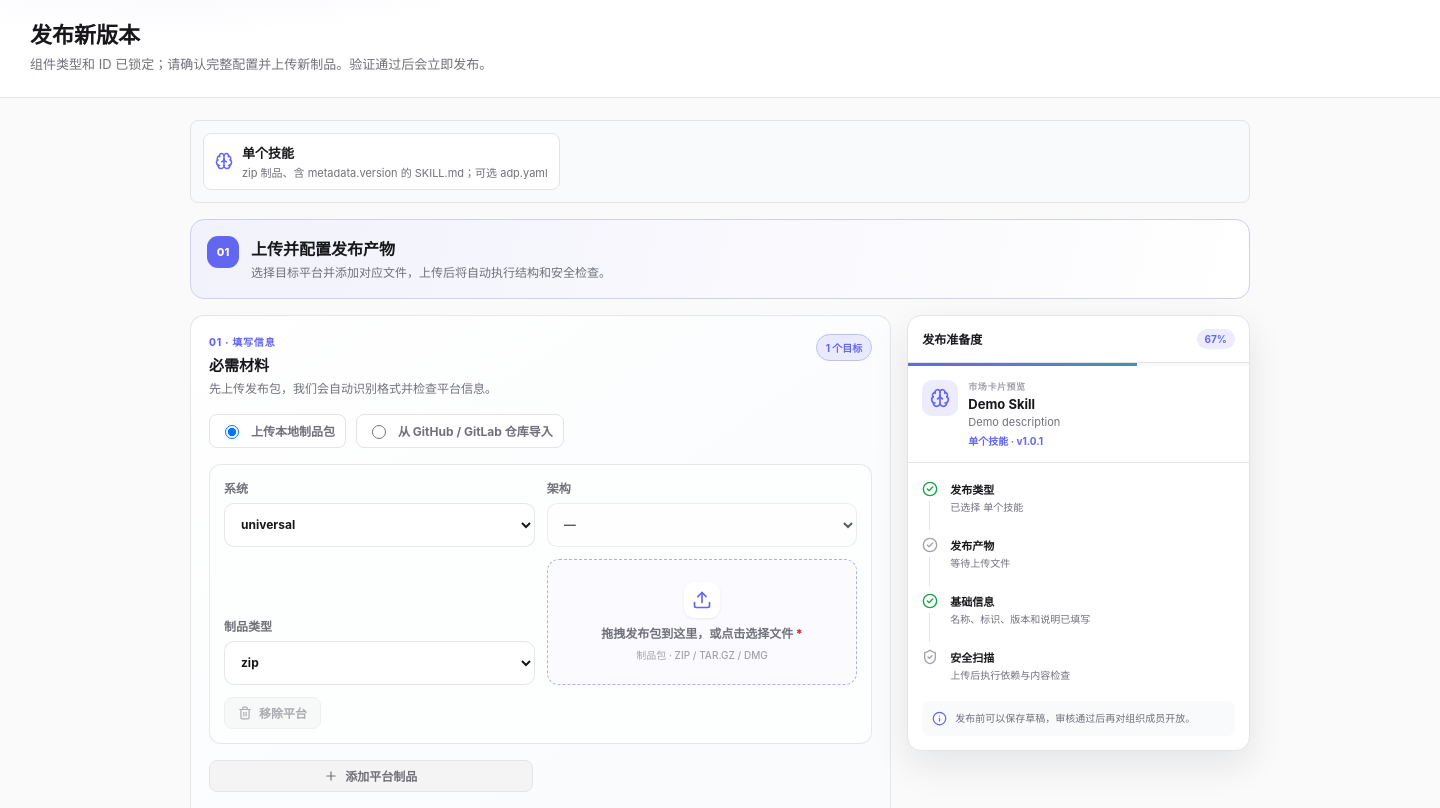
Test case: publish platform selection › switches a single skill artifact to a private repository source
The image size is (1440, 808).
Click the radio button labelled "从 GitHub / GitLab 仓库导入": (379, 432) [372,425,386,439]
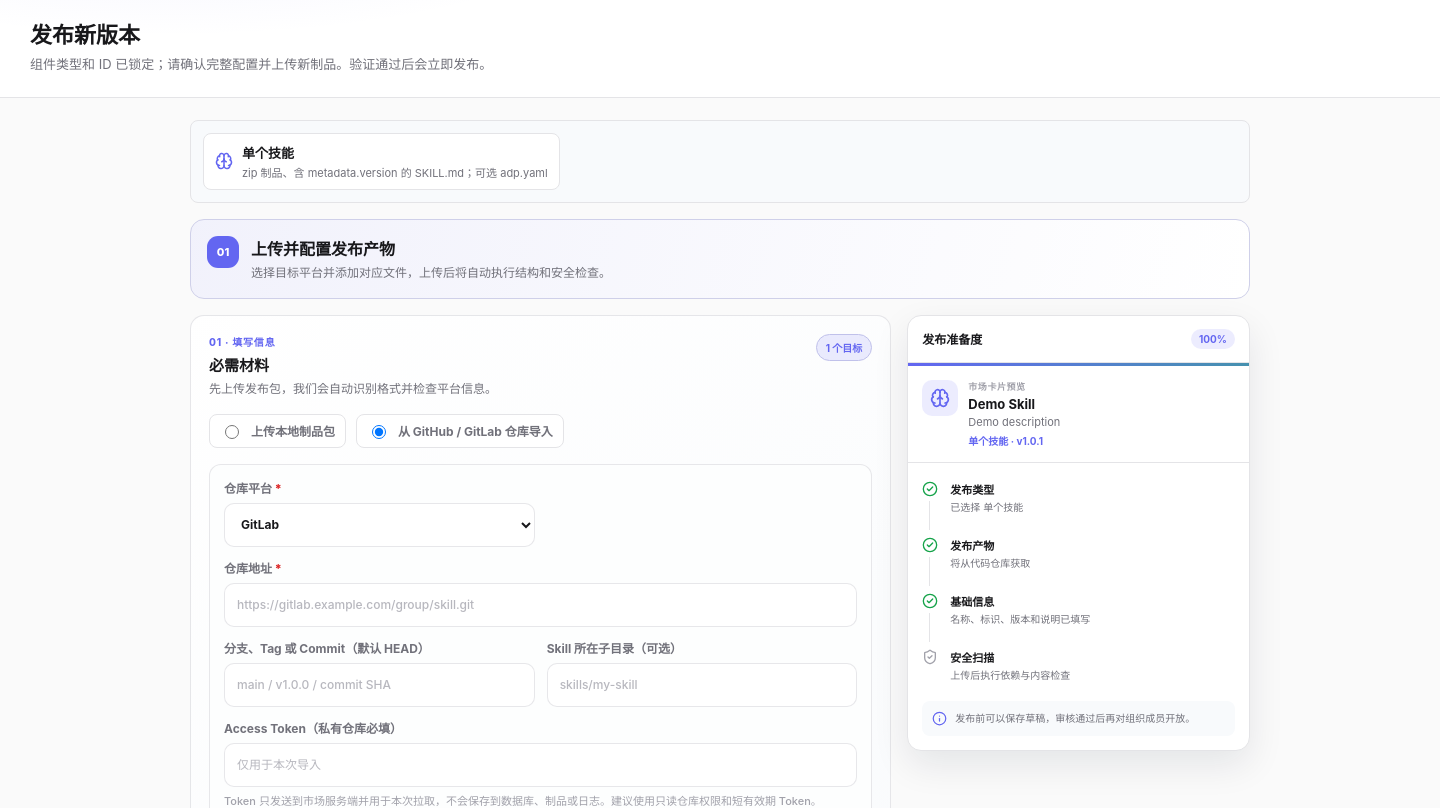
Check: the dropdown labelled "仓库平台" shows "GitLab", box [224,502,535,546]
Check: the button "添加平台制品" is gone
